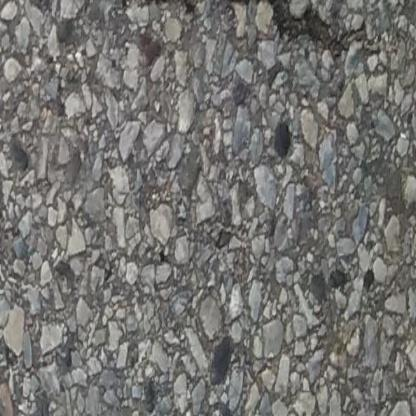Cracks: (77, 0, 360, 62)
